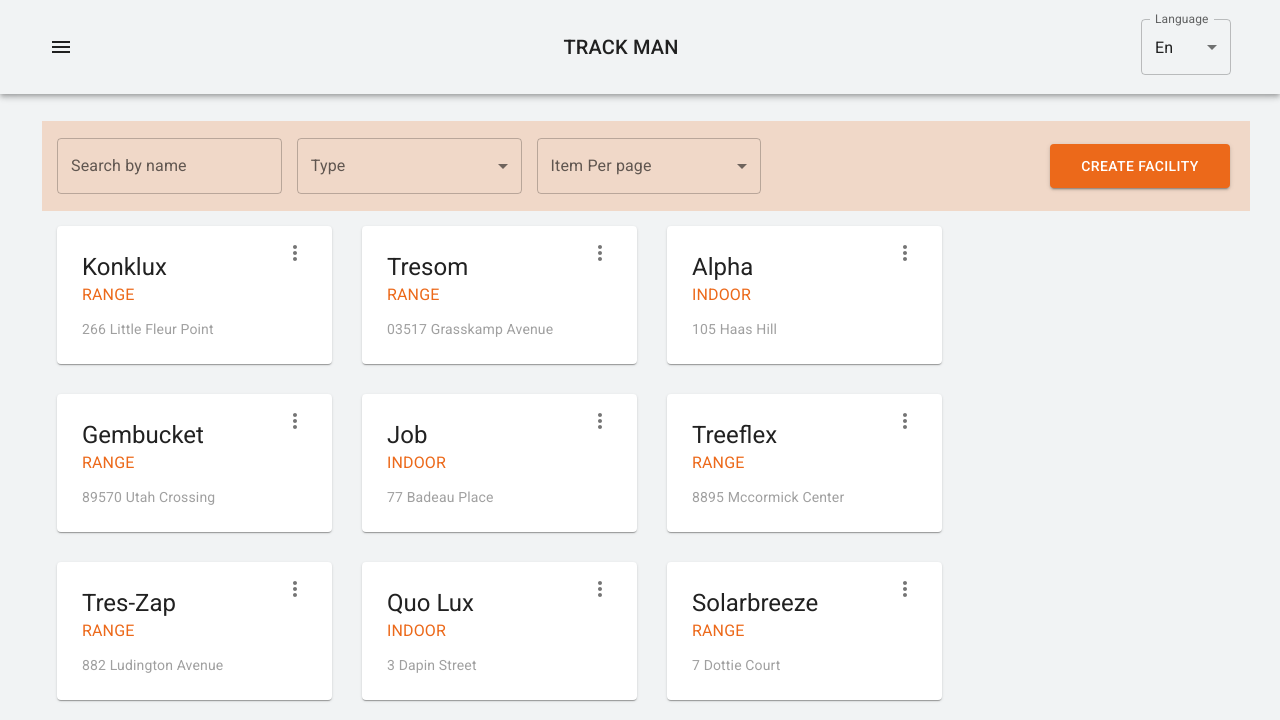
Test Scenario: Delete a facility › Open delete facility modal
The width and height of the screenshot is (1280, 720).
Click the button with test id "menu-item-button" next to "Konklux": click(295, 253) 283,241 -> 307,265
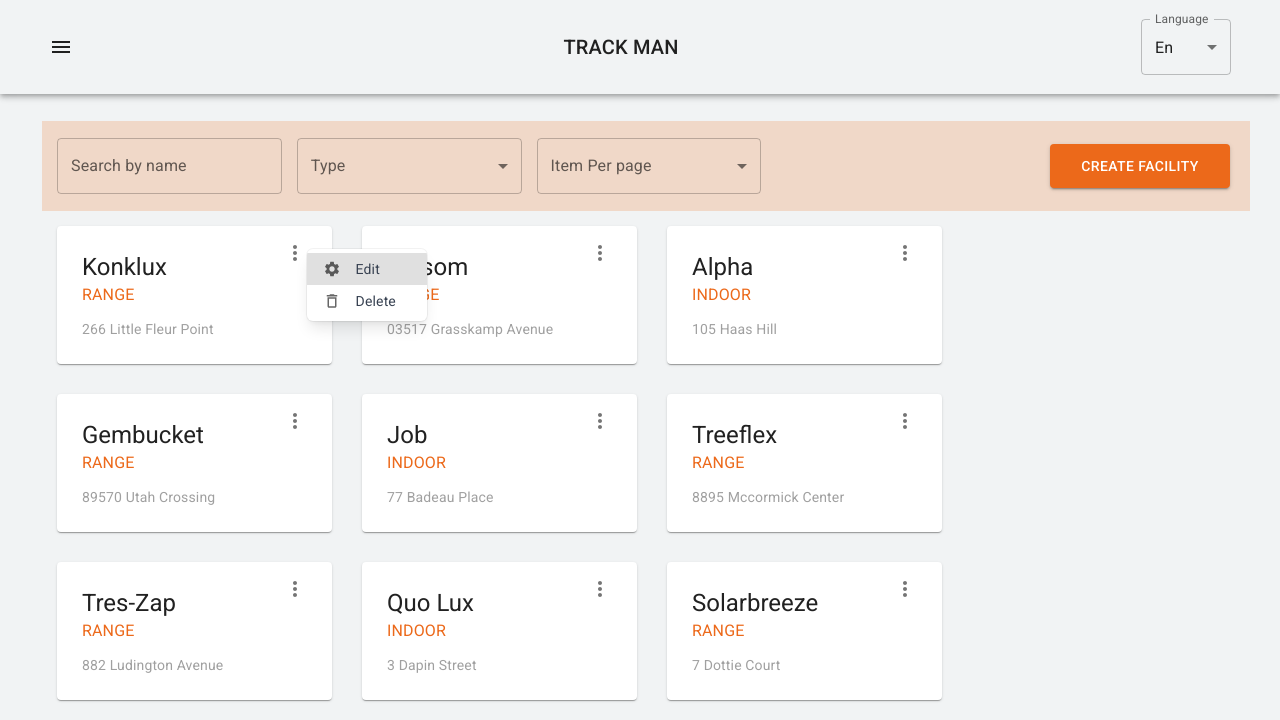
Click the menu item with test id "delete-item-button": click(360, 301) 323,292 -> 396,310
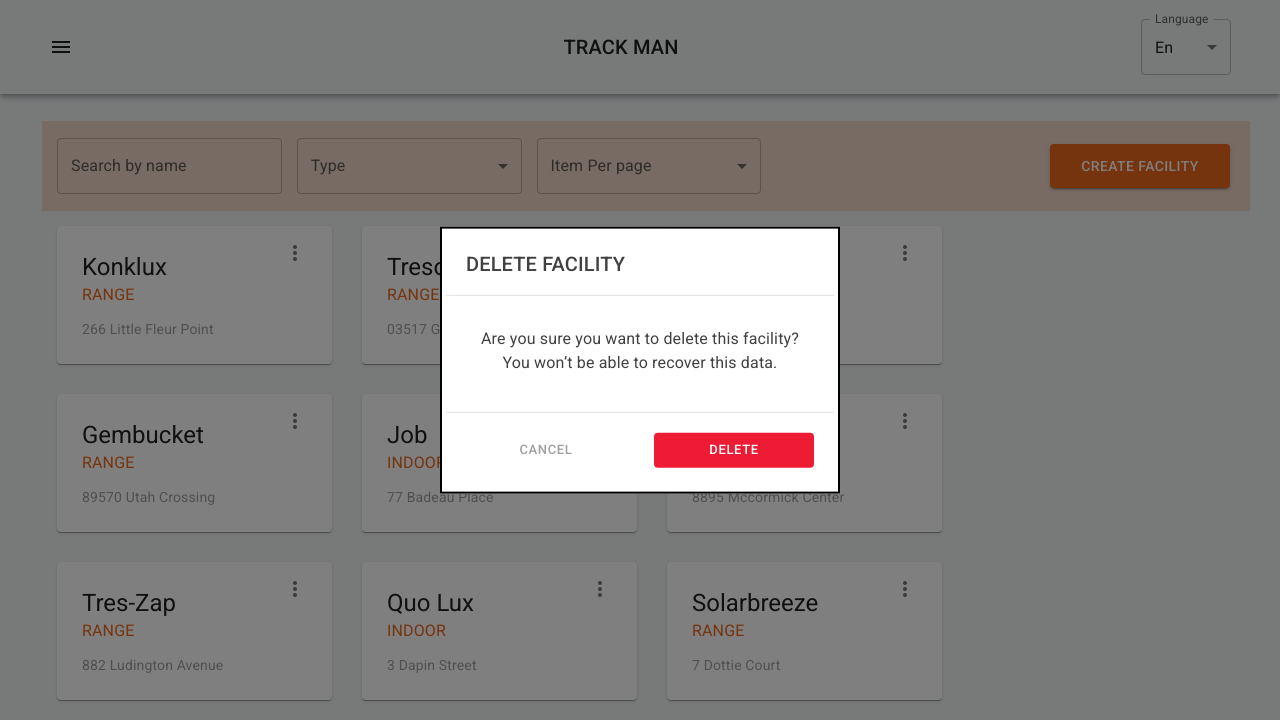
Expected: the element with test id "custom-modal-container" is shown, 440,227 -> 840,494
